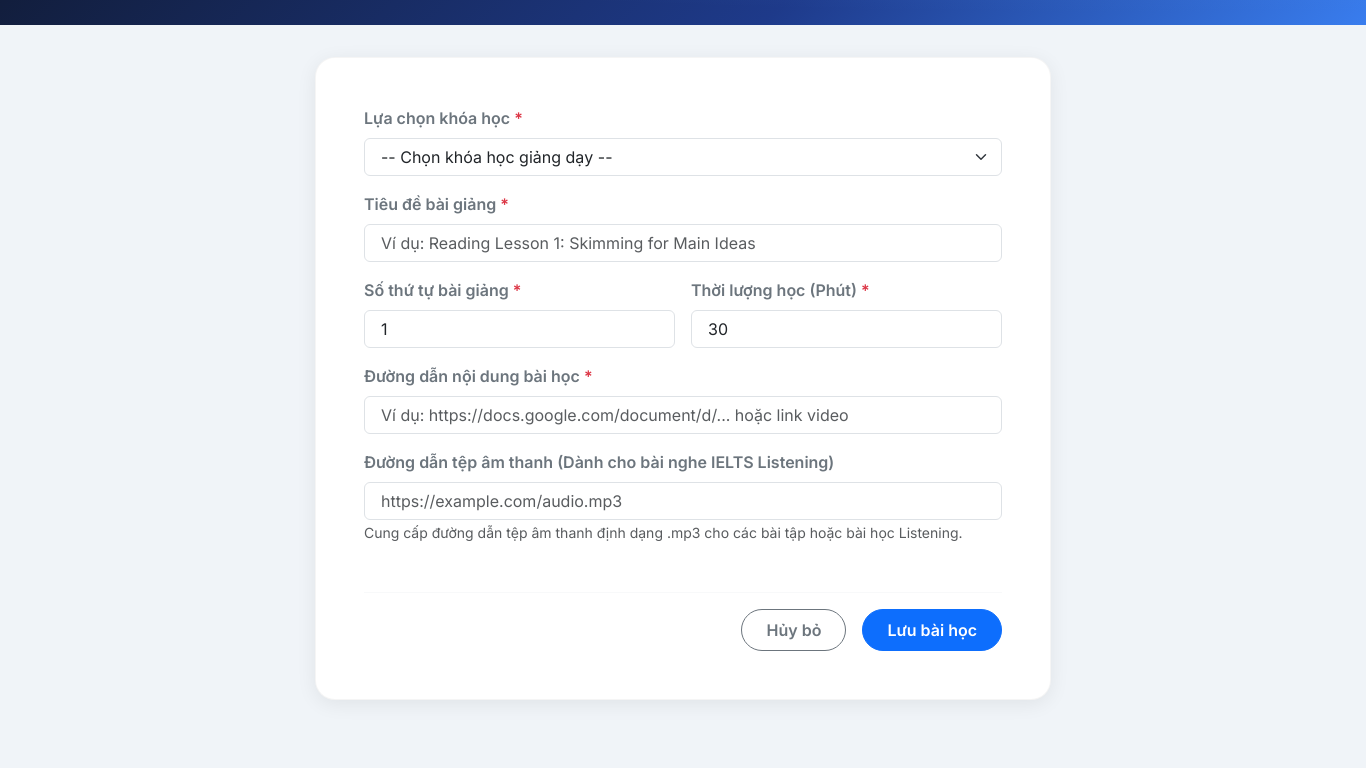
Test: LessonCreatePage Component Tests › TC-LCP-01: should display validation errors for empty fields
(page scrolled)
What coordinates should you click on to do the following:
click the button "Lưu bài học"
I would click on:
 (932, 630)
Its box is [862,609,1002,651].
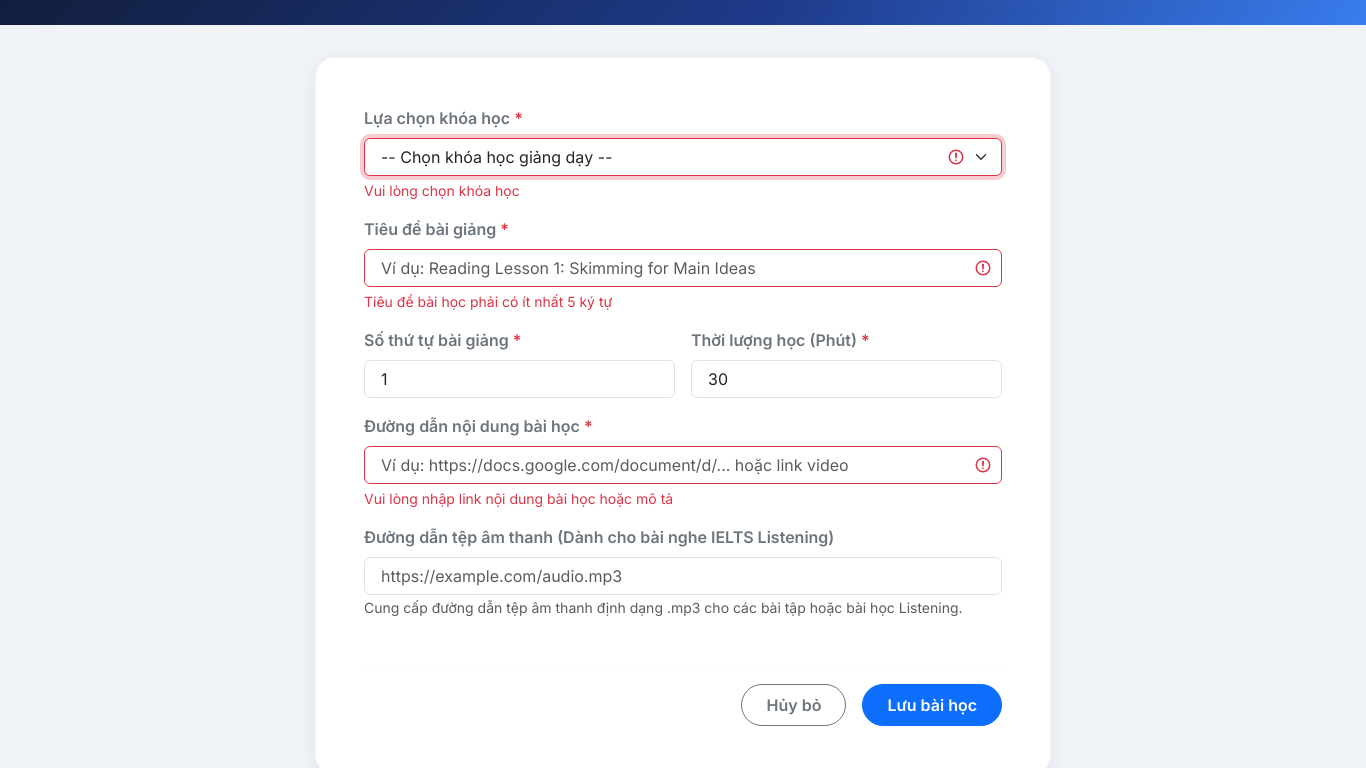
Result: the text "Vui lòng chọn khóa học" is shown at [364,182,520,199]
Result: the text "Tiêu đề bài học phải có ít nhất 5 ký tự" is shown at [364,293,612,310]
Result: the text "Vui lòng nhập link nội dung bài học hoặc mô tả" is shown at [364,490,673,507]
